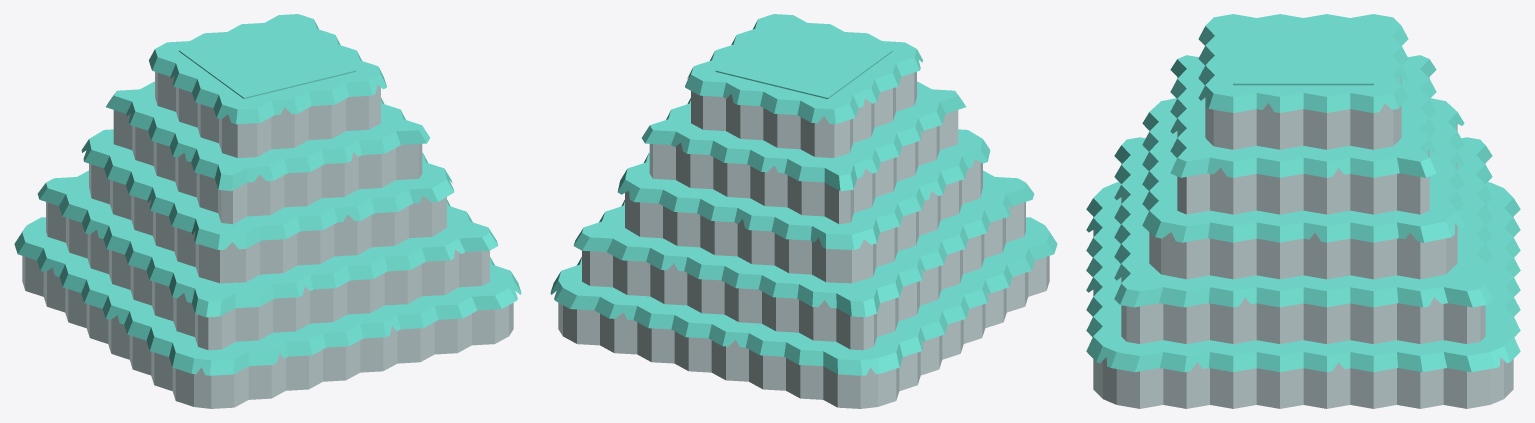
The model's file is mountain.glb.
3 renders of one model, left to right at view 1: azimuth 30°, elevation 25°; view 2: azimuth 150°, elevation 25°; view 3: azimuth 270°, elevation 25°, orthographic. The views are drawn at different scales.
Parts seen in each view (by area): view 1: Cube; view 2: Cube; view 3: Cube.
Boxes of the visible parts, box(x1,y1,x2,y2) form: Cube: box(14, 14, 521, 408); Cube: box(550, 14, 1057, 408); Cube: box(1086, 14, 1520, 408).
Size of the model in its own units: 13.5 by 9.12 by 13.5.
